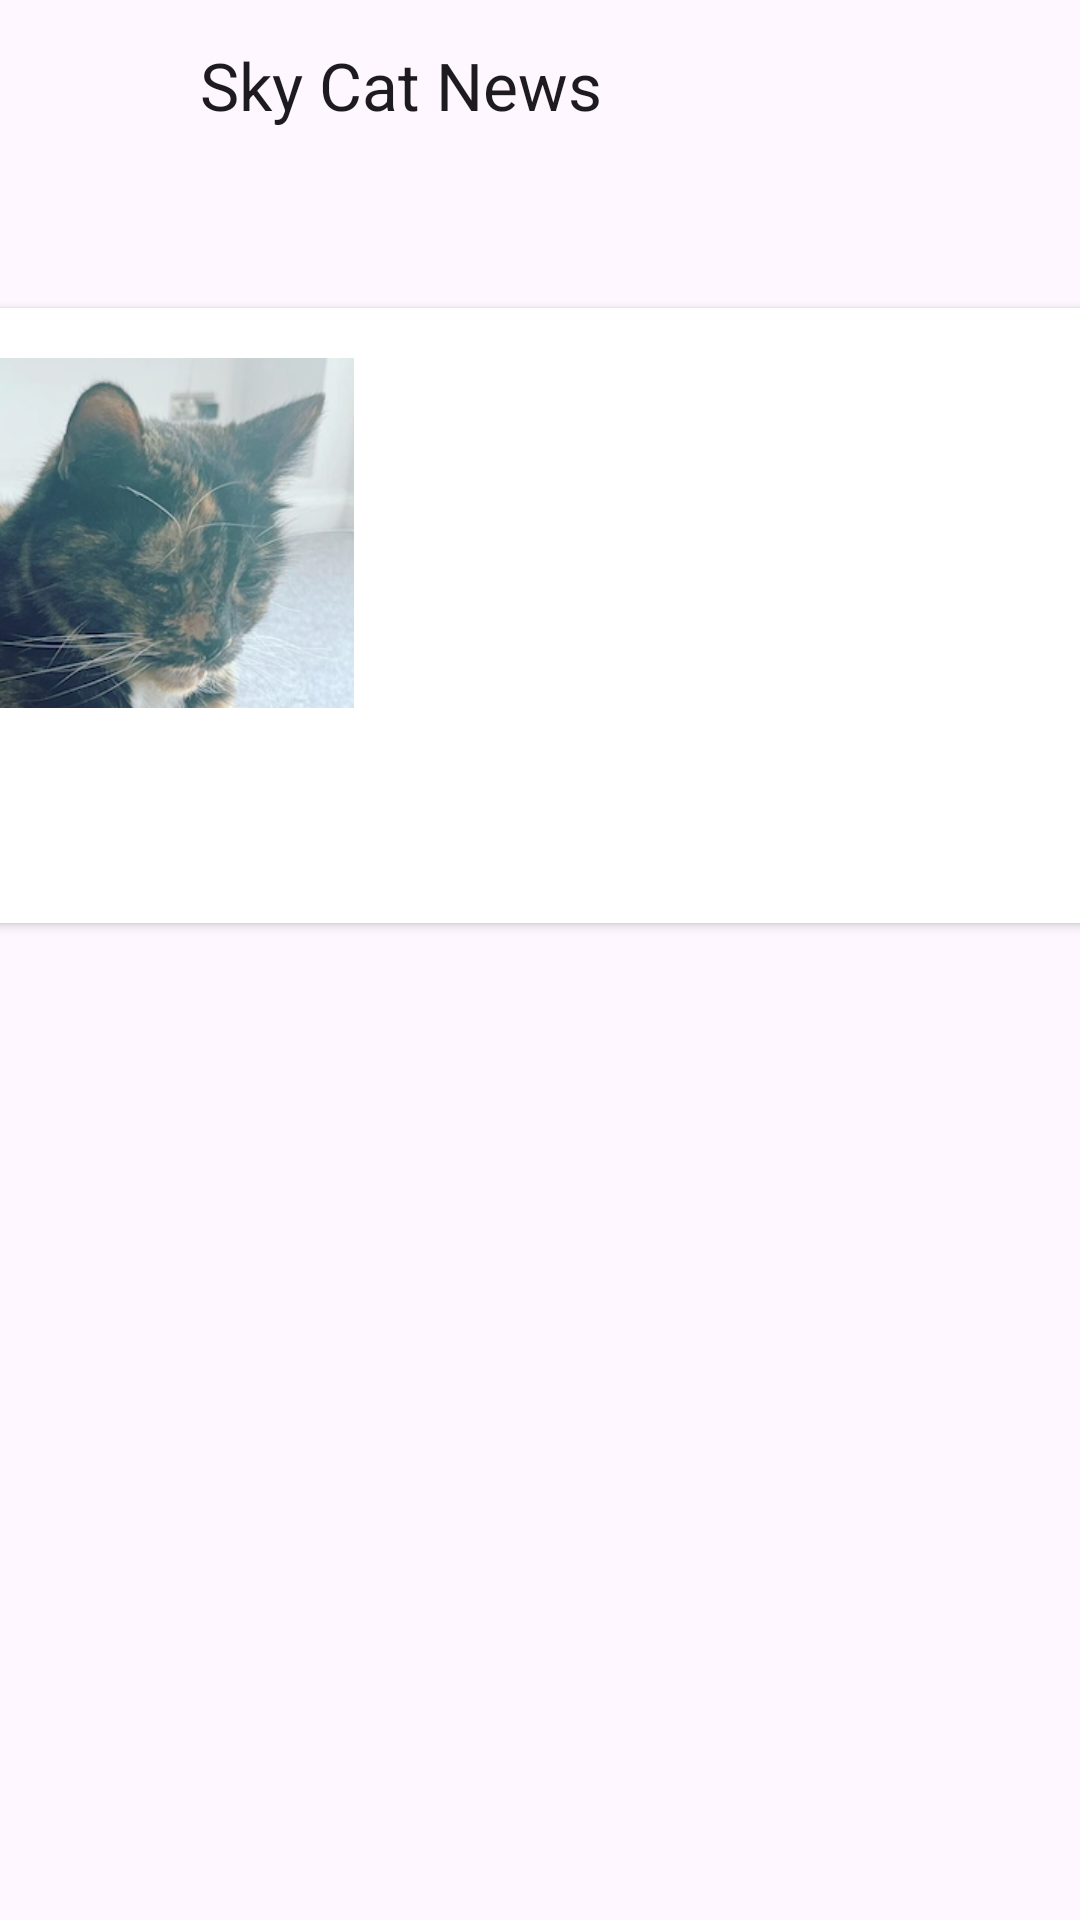

Icons on this 1080 x 1920 Android screen, each with the point to tap as point (x, y):
An image of a tortoiseshell cat: point (177, 533)
